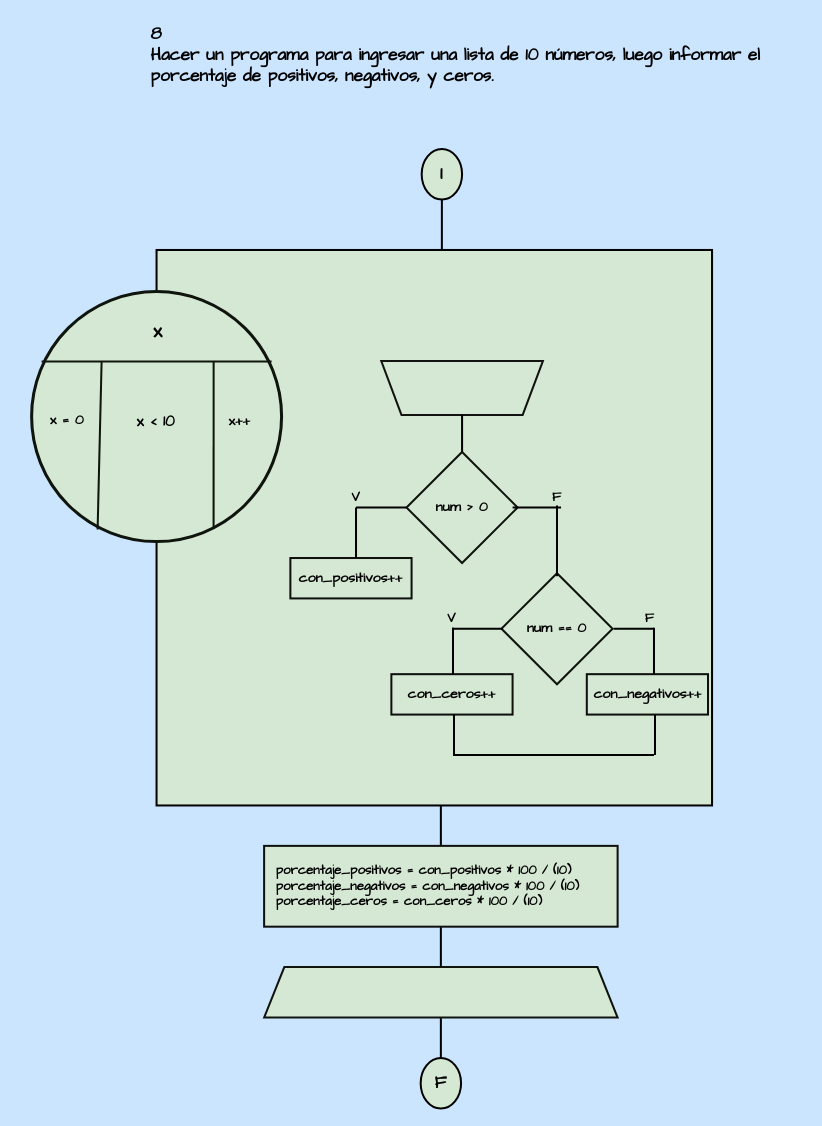
This 822x1126 diagram has some shape labels left out. Each missing label, with the box of its shape:
num: (380, 360, 543, 415)
porcentaje_positivos, porcentaje_negativos, porcentaje_ceros: (263, 966, 618, 1018)
